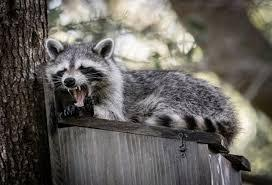raccoon: (36, 30, 249, 152)
